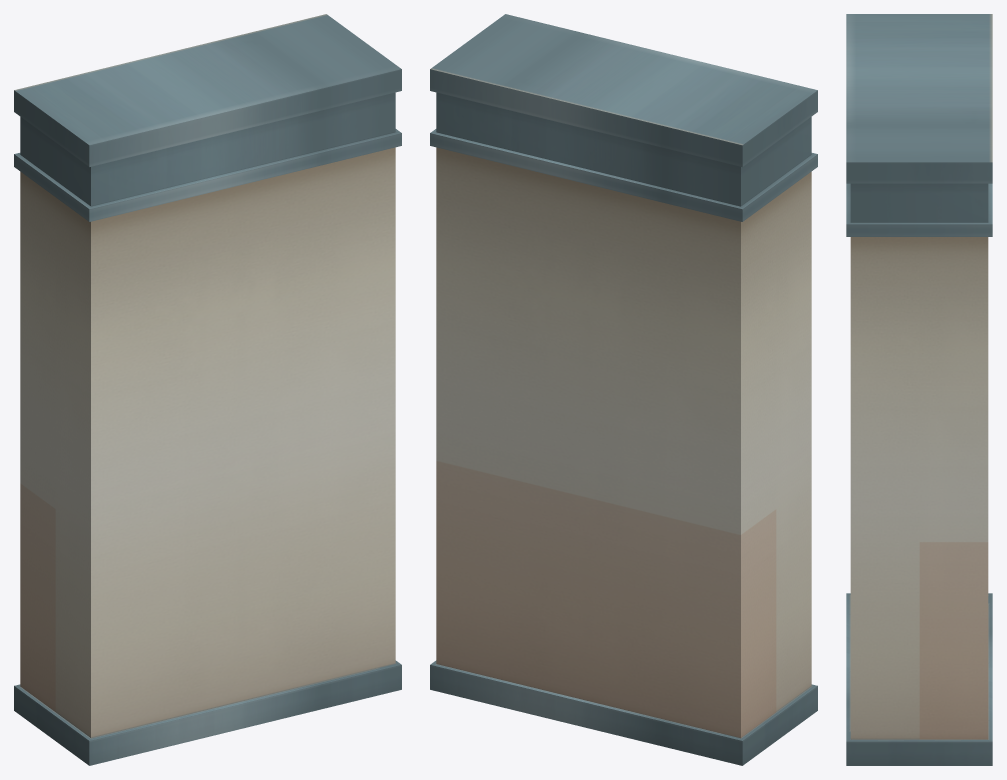
File: SHW_Pillar_01_02.fbx
3 views of the same model, side by side, from view 1: azimuth 30°, elevation 25°; view 2: azimuth 150°, elevation 25°; view 3: azimuth 270°, elevation 25° (orthographic). The views are drawn at different scales.
Visible parts, largest first — view 1: shw_pillar_01_02; view 2: shw_pillar_01_02; view 3: shw_pillar_01_02.
Boxes of the visible parts, x1=… form: shw_pillar_01_02: x1=14, y1=14, x2=401, y2=765; shw_pillar_01_02: x1=430, y1=14, x2=817, y2=765; shw_pillar_01_02: x1=846, y1=14, x2=992, y2=765.
Bounding box in the file's own units: 158 × 300 × 66.
